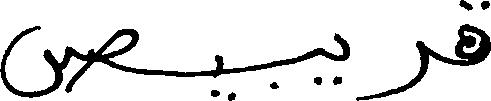X: (0, 21, 136, 100), (358, 36, 426, 100), (271, 43, 324, 93), (455, 0, 490, 70), (326, 28, 348, 89), (211, 50, 236, 100)
